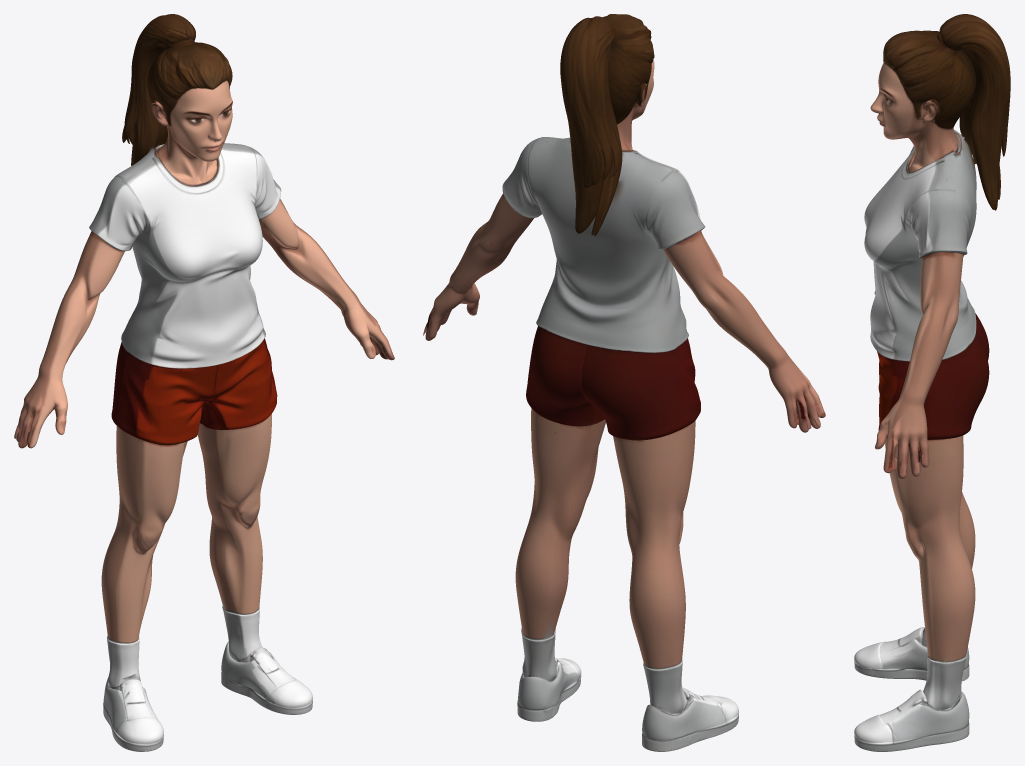
3 renders of one model, left to right at view 1: azimuth 30°, elevation 25°; view 2: azimuth 150°, elevation 25°; view 3: azimuth 270°, elevation 25°, orthographic. The views are drawn at different scales.
Visible parts, largest first — view 1: node_0; view 2: node_0; view 3: node_0.
Boxes of the visible parts, <box> form: node_0: <box>14,14,394,751</box>; node_0: <box>423,14,825,751</box>; node_0: <box>854,14,1010,751</box>.
Bounding box in the file's own units: 21391 × 37383 × 7708.
Materials: 1 (1 with a texture image).
